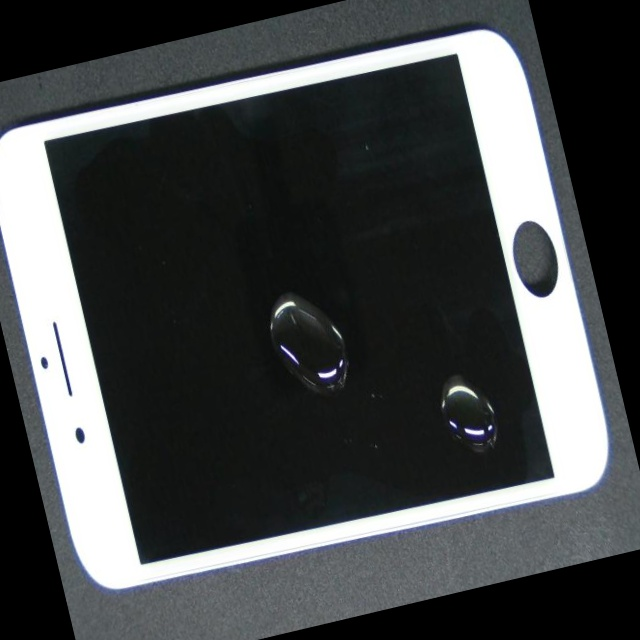oil: (244, 194, 640, 623), (146, 203, 547, 600)
